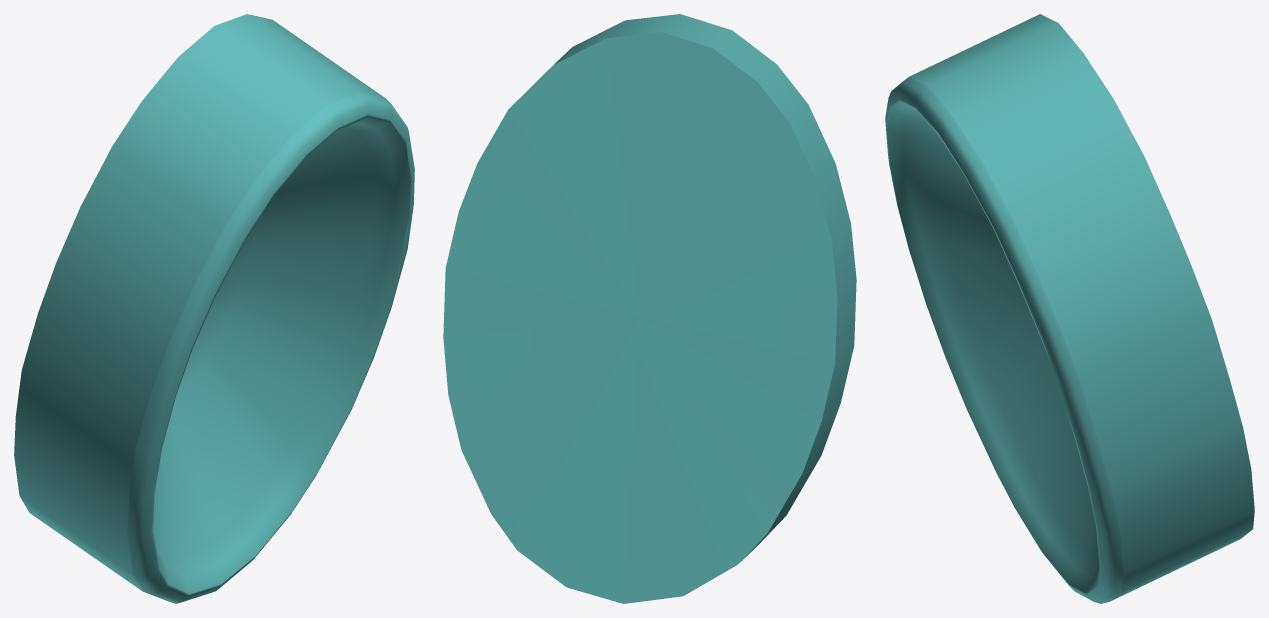
Rendered from BR2_8shapes_Oval_Classic_Metal.001.glb.
3 views of the same model, side by side, from view 1: azimuth 30°, elevation 25°; view 2: azimuth 150°, elevation 25°; view 3: azimuth 270°, elevation 25° (orthographic). The views are drawn at different scales.
Parts seen in each view (by area): view 1: BR2_8shapes_Oval_Classic_Metal.001; view 2: BR2_8shapes_Oval_Classic_Metal.001; view 3: BR2_8shapes_Oval_Classic_Metal.001.
Boxes of the visible parts, left/top/right/bottom form: BR2_8shapes_Oval_Classic_Metal.001: left=14, top=14, right=414, bottom=603; BR2_8shapes_Oval_Classic_Metal.001: left=443, top=14, right=856, bottom=603; BR2_8shapes_Oval_Classic_Metal.001: left=885, top=14, right=1254, bottom=603.
Bounding box in the file's own units: 0.4384 × 0.6246 × 0.3694.
